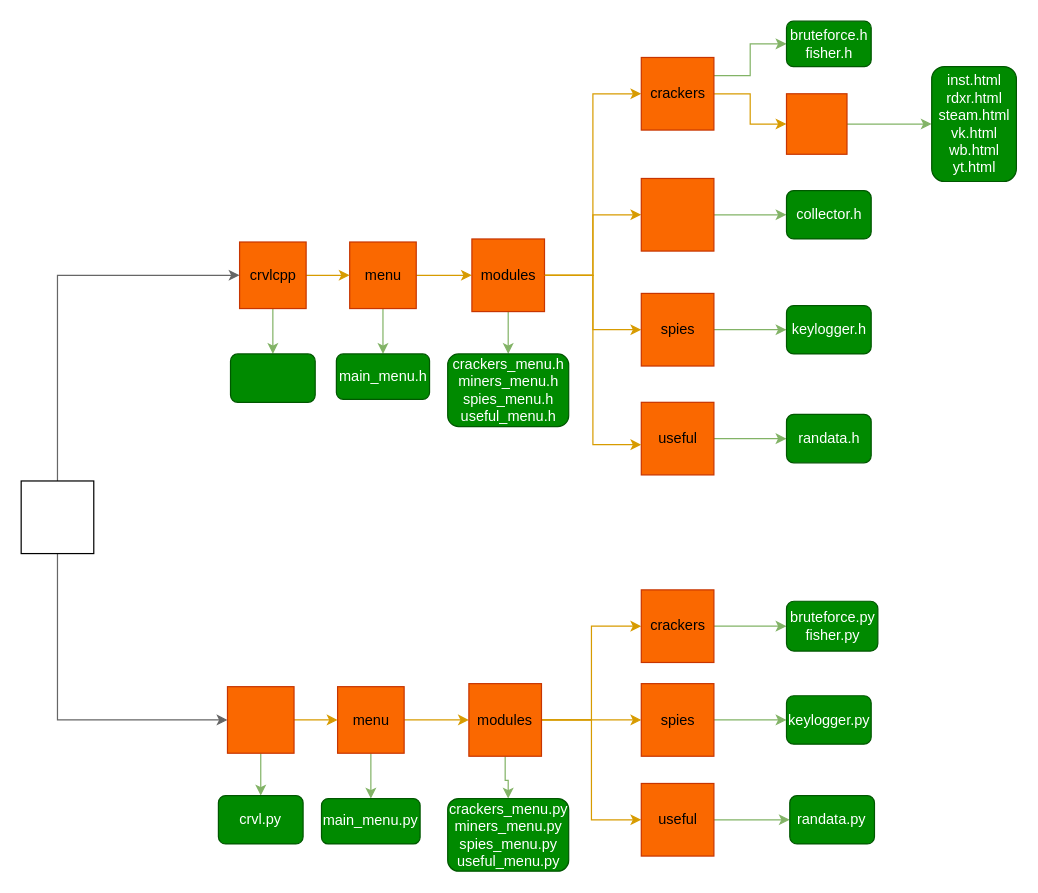
Image size: 1038x893. Some labels were removed from this diagram. The box of each missing label's shape, as (x1, y1, x2, y2) in pixels:
crackers _html: (785, 93, 847, 154)
crvl.cpp: (229, 353, 315, 402)
crvlpy: (226, 685, 294, 753)
miners: (640, 177, 714, 251)
SRC: (20, 480, 94, 554)
